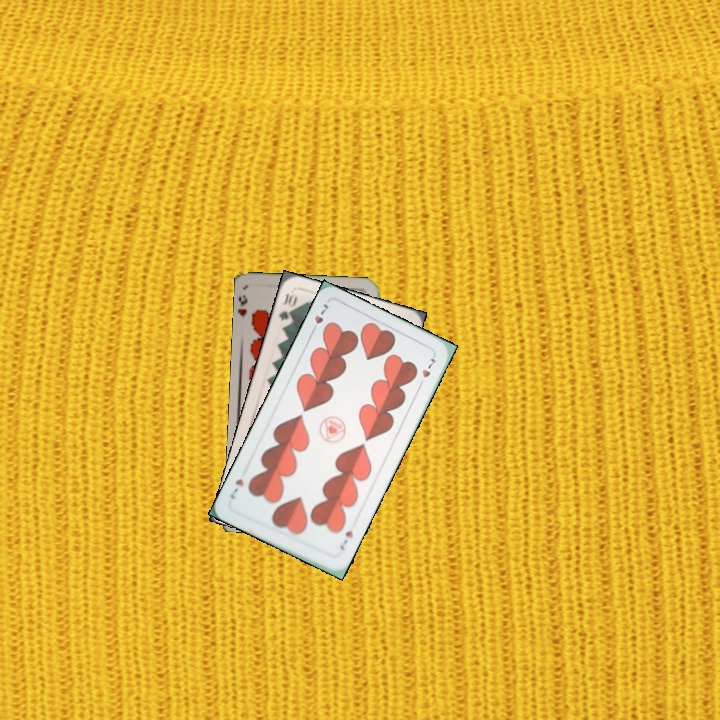G10: (275, 289, 300, 323)
H7: (307, 299, 332, 337), (335, 527, 356, 553)
H9: (236, 291, 250, 319)
